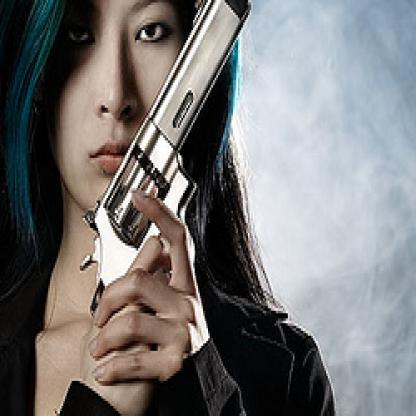gun: (76, 0, 263, 389)
